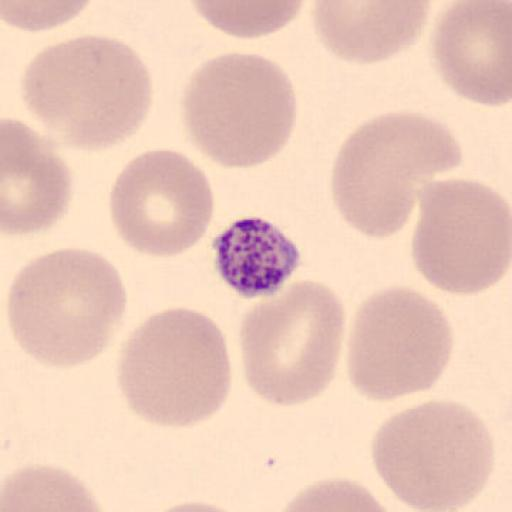Platelet: (210, 213, 304, 300)
RBC: (330, 110, 464, 240), (20, 34, 155, 152), (5, 245, 129, 371), (369, 398, 496, 512), (116, 304, 232, 428), (180, 50, 299, 170), (238, 278, 347, 409), (345, 282, 454, 402), (108, 146, 216, 260), (411, 176, 512, 296), (330, 121, 418, 240), (429, 0, 512, 108), (2, 117, 72, 238), (310, 0, 432, 65), (1, 462, 108, 512), (186, 0, 308, 39), (273, 475, 401, 512), (2, 0, 95, 34), (137, 500, 252, 512)
